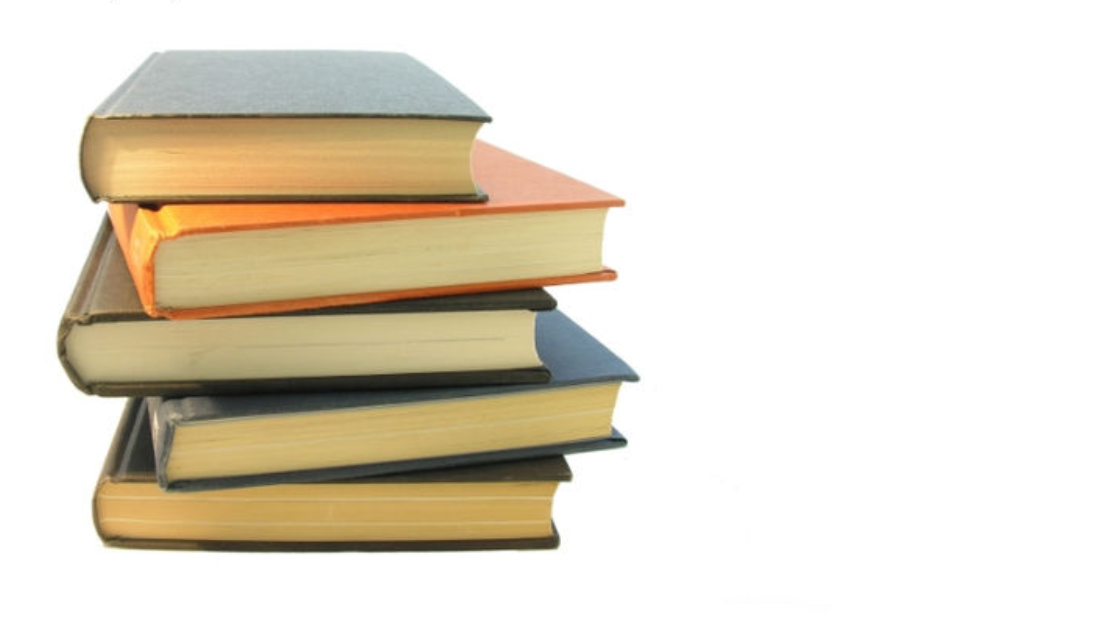book: (77, 47, 485, 204), (142, 365, 652, 484), (125, 200, 630, 315), (89, 465, 586, 563), (62, 298, 554, 388)
